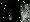person: (21, 5, 30, 22), (8, 11, 14, 20)
